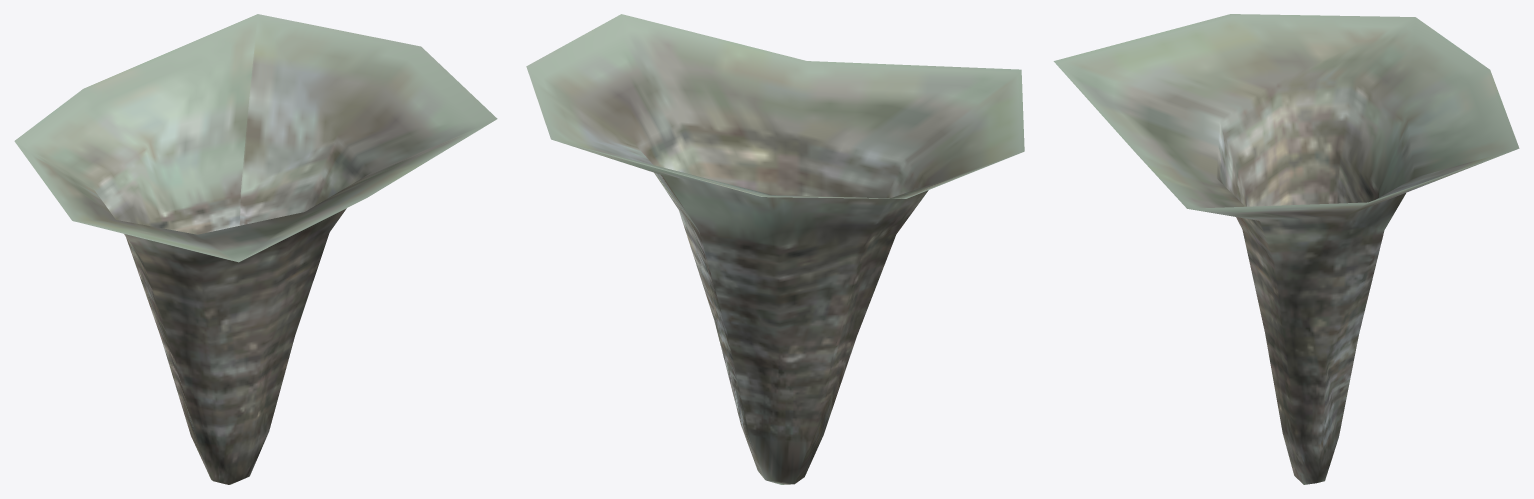
File: TROLLHOLE02_PS-MAINSTALAG74.fbx
3 views of the same model, side by side, from view 1: azimuth 30°, elevation 25°; view 2: azimuth 150°, elevation 25°; view 3: azimuth 270°, elevation 25° (orthographic). The views are drawn at different scales.
Visible parts, largest first — view 1: TROLLHOLE02_PS-MAINSTALAG74; view 2: TROLLHOLE02_PS-MAINSTALAG74; view 3: TROLLHOLE02_PS-MAINSTALAG74.
Part boxes in pixels (x1,y1,x2,y2): TROLLHOLE02_PS-MAINSTALAG74: (14, 14, 497, 484); TROLLHOLE02_PS-MAINSTALAG74: (526, 14, 1024, 484); TROLLHOLE02_PS-MAINSTALAG74: (1053, 14, 1519, 484).
Size of the model in its own units: 18133 by 15553 by 16389.
1 material, 1 textured.
